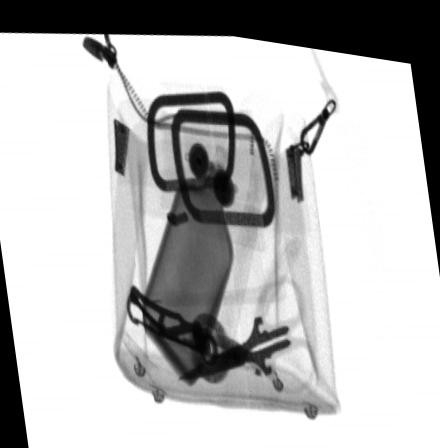Knife: (124, 279, 269, 358)
Scissors: (176, 266, 315, 388)
